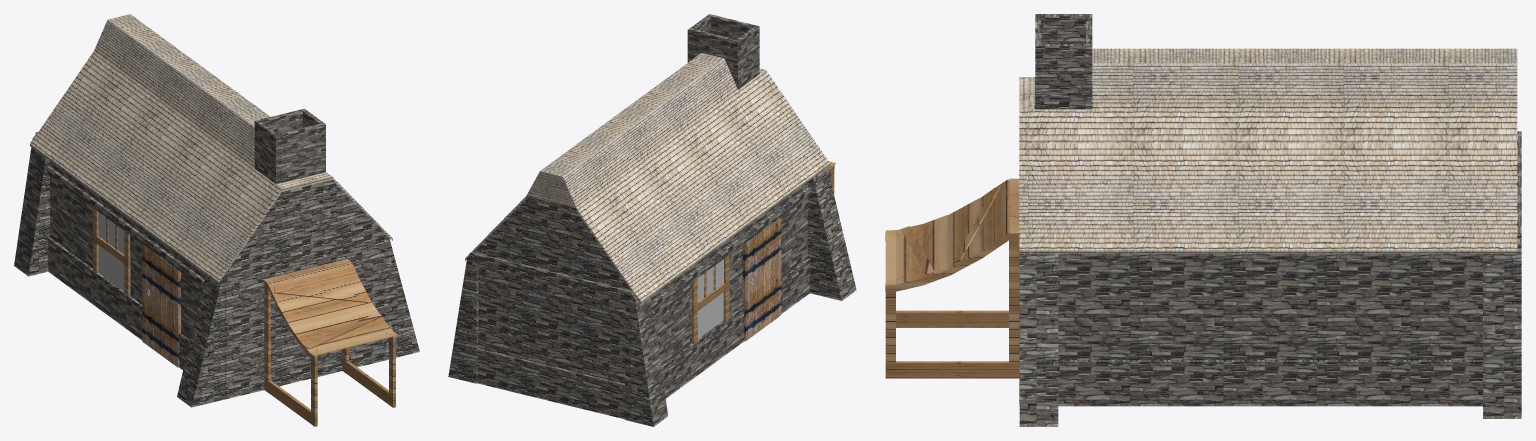
The model's file is casa5.obj.
The picture shows the model from 3 angles, left to right: view 1: azimuth 30°, elevation 25°; view 2: azimuth 150°, elevation 25°; view 3: azimuth 270°, elevation 25°; orthographic projection. The views are drawn at different scales.
Parts seen in each view (by area): view 1: telhado, portas_tras, paredes, tras, chamine, porta, Plane001, janela; view 2: telhado, portas_tras, paredes, porta, chamine, Plane001, janela; view 3: telhado, paredes, tras, chamine.
Boxes of the visible parts, left/top/right/bottom form: telhado: left=30, top=14, right=392, bottom=283; portas_tras: left=35, top=131, right=419, bottom=407; paredes: left=14, top=135, right=391, bottom=407; tras: left=263, top=259, right=397, bottom=426; chamine: left=254, top=108, right=325, bottom=183; porta: left=142, top=244, right=180, bottom=367; Plane001: left=98, top=212, right=130, bottom=295; janela: left=93, top=208, right=130, bottom=296; telhado: left=465, top=53, right=830, bottom=303; portas_tras: left=448, top=196, right=653, bottom=426; paredes: left=465, top=167, right=856, bottom=426; porta: left=742, top=217, right=781, bottom=341; chamine: left=687, top=14, right=759, bottom=89; Plane001: left=697, top=259, right=723, bottom=338; janela: left=692, top=255, right=729, bottom=343; telhado: left=1019, top=48, right=1517, bottom=253; paredes: left=1019, top=239, right=1521, bottom=426; tras: left=885, top=178, right=1019, bottom=378; chamine: left=1035, top=14, right=1092, bottom=109.
Bounding box in the file's own units: 37.33 × 38.2 × 68.01.
